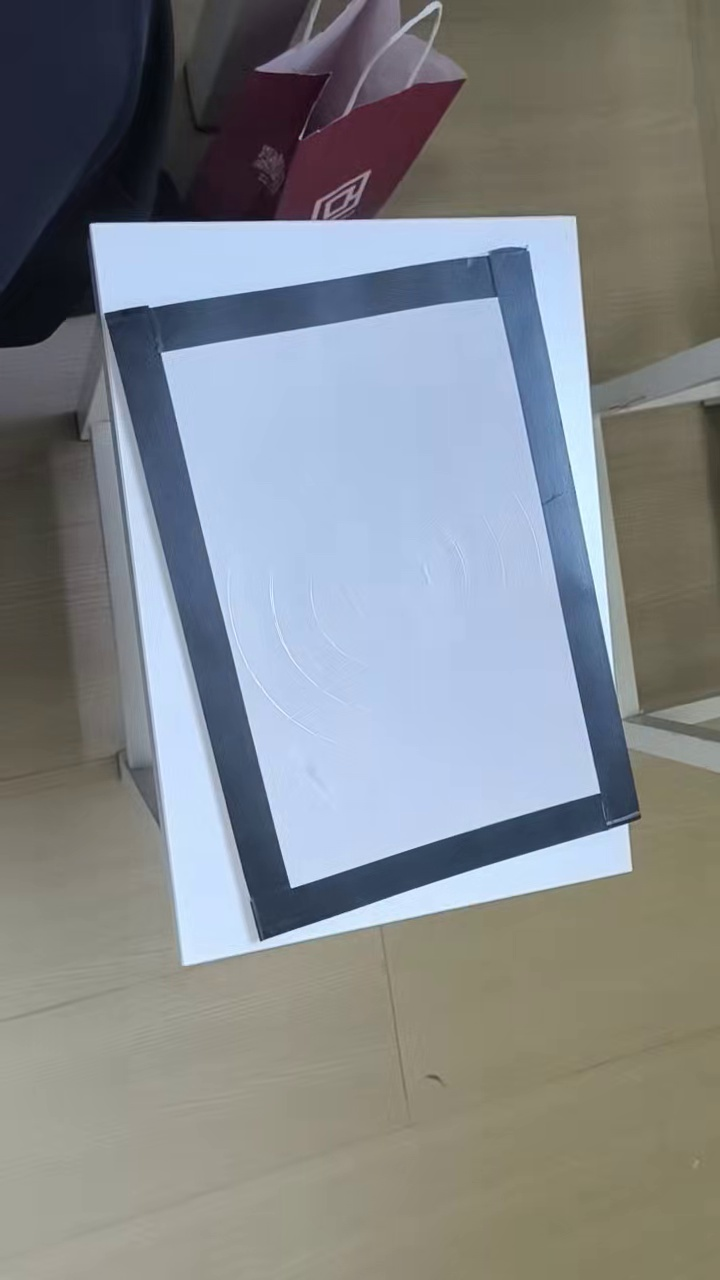board: (103, 251, 637, 937)
